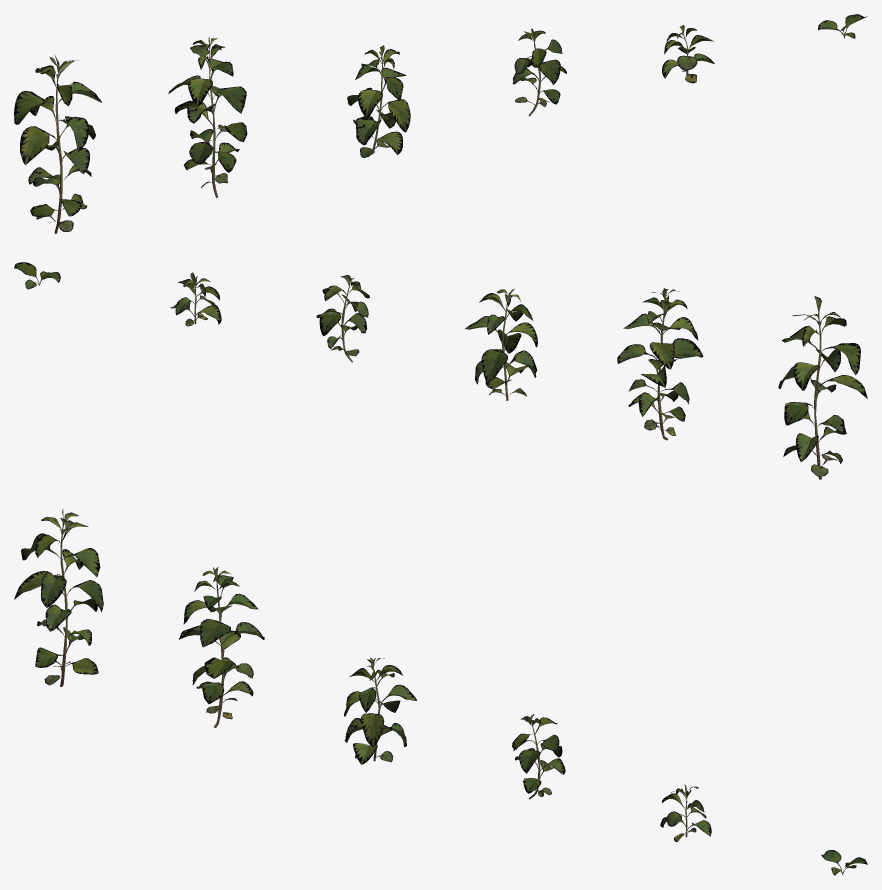
Rendered from nettle_plant.glb.
3 views of the same model, one above another, from view 1: azimuth 30°, elevation 25°; view 2: azimuth 150°, elevation 25°; view 3: azimuth 330°, elevation 25° (orthographic).
Visible parts, largest first — view 1: nettle_plant_tall_a_LOD0, nettle_plant_tall_b_LOD0, nettle_plant_medium_a_LOD0, nettle_plant_medium_b_LOD0, nettle_plant_small_a_LOD0; view 2: nettle_plant_tall_a_LOD0, nettle_plant_tall_b_LOD0, nettle_plant_medium_a_LOD0, nettle_plant_medium_b_LOD0, nettle_plant_small_a_LOD0, nettle_plant_small_b_LOD0; view 3: nettle_plant_tall_a_LOD0, nettle_plant_tall_b_LOD0, nettle_plant_medium_a_LOD0, nettle_plant_medium_b_LOD0, nettle_plant_small_a_LOD0.
Boxes of the visible parts, box(x1,y1,x2,y2) form: nettle_plant_tall_a_LOD0: box(14, 54, 101, 233); nettle_plant_tall_b_LOD0: box(168, 37, 247, 197); nettle_plant_medium_a_LOD0: box(347, 45, 410, 157); nettle_plant_medium_b_LOD0: box(512, 28, 566, 116); nettle_plant_small_a_LOD0: box(662, 25, 714, 83); nettle_plant_tall_a_LOD0: box(778, 296, 867, 479); nettle_plant_tall_b_LOD0: box(617, 288, 703, 440); nettle_plant_medium_a_LOD0: box(465, 288, 537, 400); nettle_plant_medium_b_LOD0: box(316, 275, 369, 362); nettle_plant_small_a_LOD0: box(170, 272, 221, 326); nettle_plant_small_b_LOD0: box(14, 262, 60, 289); nettle_plant_tall_a_LOD0: box(14, 509, 103, 686); nettle_plant_tall_b_LOD0: box(179, 567, 264, 727); nettle_plant_medium_a_LOD0: box(344, 657, 417, 764); nettle_plant_medium_b_LOD0: box(512, 714, 565, 799); nettle_plant_small_a_LOD0: box(660, 784, 711, 842).
Bounding box in the file's own units: 1.08 × 0.2183 × 0.0947.
1 material, 1 textured.
